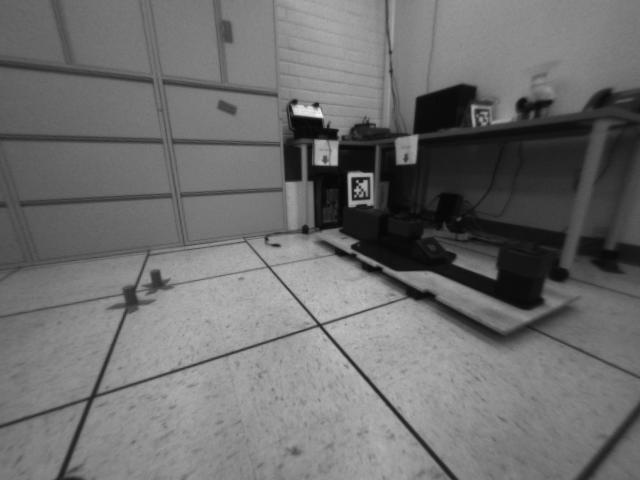X: (106, 283, 155, 314), (139, 268, 175, 295)
